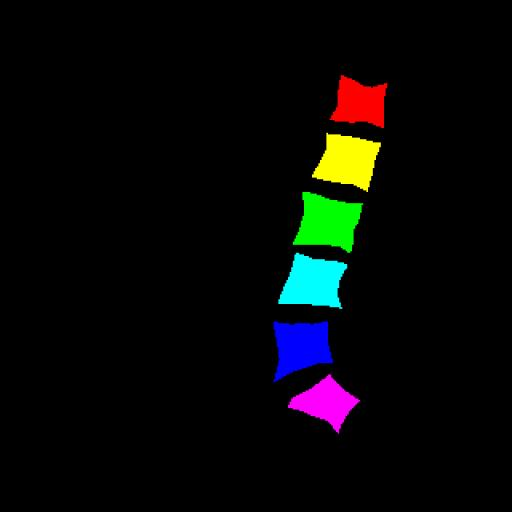L1: (330, 75, 387, 128)
L2: (312, 133, 381, 190)
L3: (293, 192, 362, 252)
L4: (278, 253, 347, 308)
L5: (274, 322, 333, 382)
S1: (288, 375, 359, 432)
